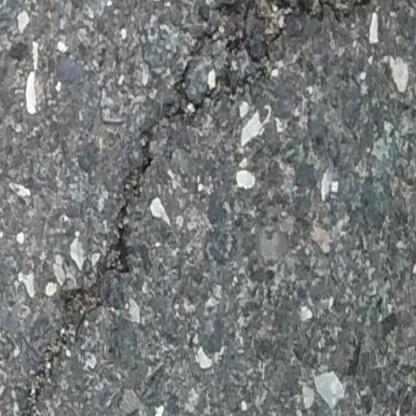Cracks: (11, 0, 381, 416)
